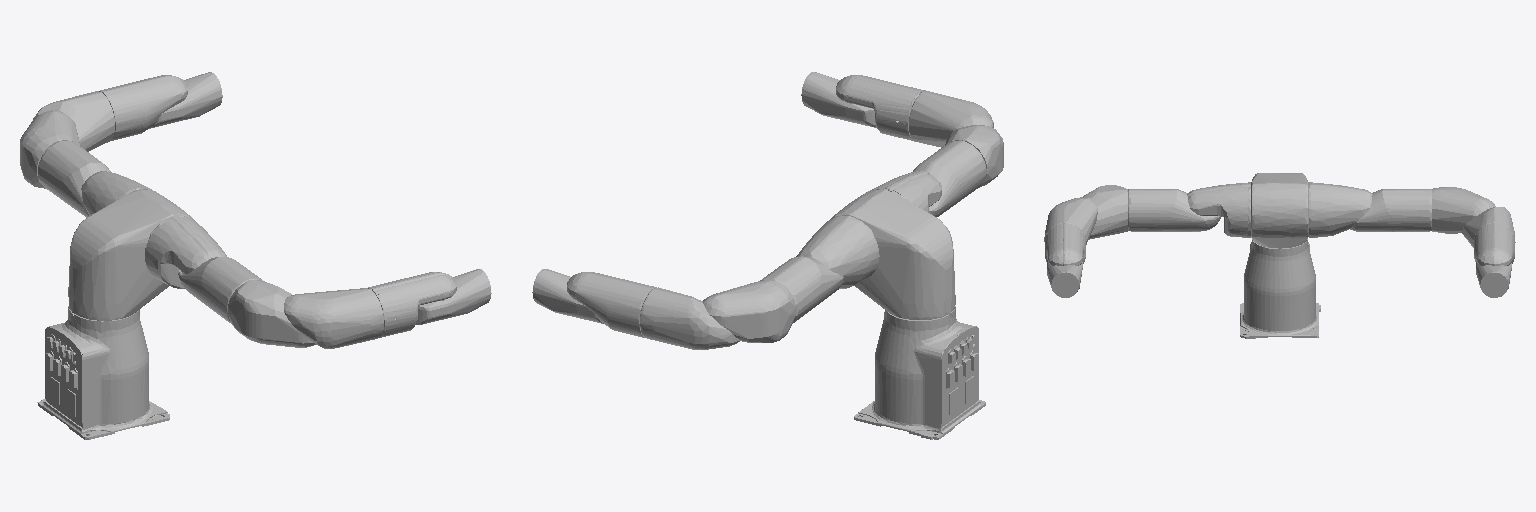
robot.urdf — motoman_bmda3:
<?xml version="1.0" ?>
<!-- =================================================================================== -->
<!-- |    This document was autogenerated by xacro from bmda3.xacro                    | -->
<!-- |    EDITING THIS FILE BY HAND IS NOT RECOMMENDED                                 | -->
<!-- =================================================================================== -->
<robot name="motoman_bmda3" xmlns:xacro="http://ros.org/wiki/xacro">
  <link name="base_link">
    <origin rpy="0 0 0" xyz="0 0 0"/>
  </link>
  <link name="base">
    <visual>
      <origin rpy="0 0 0" xyz="0 0 0"/>
      <geometry>
        <mesh filename="package://motoman_bmda3_support/meshes/bmda3/visual/base.stl"/>
      </geometry>
      <material name="">
        <color rgba="0.75294 0.75294 0.75294 1"/>
      </material>
    </visual>
    <collision>
      <origin rpy="0 0 0" xyz="0 0 0"/>
      <geometry>
        <mesh filename="package://motoman_bmda3_support/meshes/bmda3/collision/base.stl"/>
      </geometry>
    </collision>
  </link>
  <link name="torso_link_b1">
    <visual>
      <origin rpy="0 0 0" xyz="0 0 0"/>
      <geometry>
        <mesh filename="package://motoman_bmda3_support/meshes/bmda3/visual/torso_link.stl"/>
      </geometry>
      <material name="">
        <color rgba="0.75294 0.75294 0.75294 1"/>
      </material>
    </visual>
    <collision>
      <origin rpy="0 0 0" xyz="0 0 0"/>
      <geometry>
        <mesh filename="package://motoman_bmda3_support/meshes/bmda3/collision/torso_link.stl"/>
      </geometry>
    </collision>
  </link>
  <link name="right_link_l">
    <visual>
      <origin rpy="0 0 0" xyz="0 0 0"/>
      <geometry>
        <mesh filename="package://motoman_bmda3_support/meshes/bmda3/visual/right_link_l.stl"/>
      </geometry>
      <material name="">
        <color rgba="0.75294 0.75294 0.75294 1"/>
      </material>
    </visual>
    <collision>
      <origin rpy="0 0 0" xyz="0 0 0"/>
      <geometry>
        <mesh filename="package://motoman_bmda3_support/meshes/bmda3/collision/right_link_l.stl"/>
      </geometry>
    </collision>
  </link>
  <link name="right_link_e">
    <visual>
      <origin rpy="0 0 0" xyz="0 0 0"/>
      <geometry>
        <mesh filename="package://motoman_bmda3_support/meshes/bmda3/visual/right_link_e.stl"/>
      </geometry>
      <material name="">
        <color rgba="0.75294 0.75294 0.75294 1"/>
      </material>
    </visual>
    <collision>
      <origin rpy="0 0 0" xyz="0 0 0"/>
      <geometry>
        <mesh filename="package://motoman_bmda3_support/meshes/bmda3/collision/right_link_e.stl"/>
      </geometry>
    </collision>
  </link>
  <link name="right_link_u">
    <visual>
      <origin rpy="0 0 0" xyz="0 0 0"/>
      <geometry>
        <mesh filename="package://motoman_bmda3_support/meshes/bmda3/visual/right_link_u.stl"/>
      </geometry>
      <material name="">
        <color rgba="0.752941176470588 0.752941176470588 0.752941176470588 1"/>
      </material>
    </visual>
    <collision>
      <origin rpy="0 0 0" xyz="0 0 0"/>
      <geometry>
        <mesh filename="package://motoman_bmda3_support/meshes/bmda3/collision/right_link_u.stl"/>
      </geometry>
    </collision>
  </link>
  <link name="right_link_r">
    <visual>
      <origin rpy="0 0 0" xyz="0 0 0"/>
      <geometry>
        <mesh filename="package://motoman_bmda3_support/meshes/bmda3/visual/right_link_r.stl"/>
      </geometry>
      <material name="">
        <color rgba="0.752941176470588 0.752941176470588 0.752941176470588 1"/>
      </material>
    </visual>
    <collision>
      <origin rpy="0 0 0" xyz="0 0 0"/>
      <geometry>
        <mesh filename="package://motoman_bmda3_support/meshes/bmda3/collision/right_link_r.stl"/>
      </geometry>
    </collision>
  </link>
  <link name="right_link_b">
    <visual>
      <origin rpy="0 0 0" xyz="0 0 0"/>
      <geometry>
        <mesh filename="package://motoman_bmda3_support/meshes/bmda3/visual/right_link_b.stl"/>
      </geometry>
      <material name="">
        <color rgba="0.752941176470588 0.752941176470588 0.752941176470588 1"/>
      </material>
    </visual>
    <collision>
      <origin rpy="0 0 0" xyz="0 0 0"/>
      <geometry>
        <mesh filename="package://motoman_bmda3_support/meshes/bmda3/collision/right_link_b.stl"/>
      </geometry>
    </collision>
  </link>
  <link name="right_link_t">
    <visual>
      <origin rpy="0 0 0" xyz="0 0 0"/>
      <geometry>
        <mesh filename="package://motoman_bmda3_support/meshes/bmda3/visual/right_link_t.stl"/>
      </geometry>
      <material name="">
        <color rgba="0.752941176470588 0.752941176470588 0.752941176470588 1"/>
      </material>
    </visual>
    <collision>
      <origin rpy="0 0 0" xyz="0 0 0"/>
      <geometry>
        <mesh filename="package://motoman_bmda3_support/meshes/bmda3/collision/right_link_t.stl"/>
      </geometry>
    </collision>
  </link>
  <link name="right_tool0"/>
  <link name="torso_link_b2">
    <visual>
      <origin rpy="0 0 0" xyz="0 0 0"/>
      <geometry>
        <mesh filename="package://motoman_bmda3_support/meshes/bmda3/visual/torso_link.stl"/>
      </geometry>
      <material name="">
        <color rgba="0.75294 0.75294 0.75294 1"/>
      </material>
    </visual>
    <collision>
      <origin rpy="0 0 0" xyz="0 0 0"/>
      <geometry>
        <mesh filename="package://motoman_bmda3_support/meshes/bmda3/collision/torso_link.stl"/>
      </geometry>
    </collision>
  </link>
  <link name="left_link_l">
    <visual>
      <origin rpy="0 0 0" xyz="0 0 0"/>
      <geometry>
        <mesh filename="package://motoman_bmda3_support/meshes/bmda3/visual/left_link_l.stl"/>
      </geometry>
      <material name="">
        <color rgba="0.752941176470588 0.752941176470588 0.752941176470588 1"/>
      </material>
    </visual>
    <collision>
      <origin rpy="0 0 0" xyz="0 0 0"/>
      <geometry>
        <mesh filename="package://motoman_bmda3_support/meshes/bmda3/collision/left_link_l.stl"/>
      </geometry>
    </collision>
  </link>
  <link name="left_link_e">
    <visual>
      <origin rpy="0 0 0" xyz="0 0 0"/>
      <geometry>
        <mesh filename="package://motoman_bmda3_support/meshes/bmda3/visual/left_link_e.stl"/>
      </geometry>
      <material name="">
        <color rgba="0.752941176470588 0.752941176470588 0.752941176470588 1"/>
      </material>
    </visual>
    <collision>
      <origin rpy="0 0 0" xyz="0 0 0"/>
      <geometry>
        <mesh filename="package://motoman_bmda3_support/meshes/bmda3/collision/left_link_e.stl"/>
      </geometry>
    </collision>
  </link>
  <link name="left_link_u">
    <visual>
      <origin rpy="0 0 0" xyz="0 0 0"/>
      <geometry>
        <mesh filename="package://motoman_bmda3_support/meshes/bmda3/visual/left_link_u.stl"/>
      </geometry>
      <material name="">
        <color rgba="0.752941176470588 0.752941176470588 0.752941176470588 1"/>
      </material>
    </visual>
    <collision>
      <origin rpy="0 0 0" xyz="0 0 0"/>
      <geometry>
        <mesh filename="package://motoman_bmda3_support/meshes/bmda3/collision/left_link_u.stl"/>
      </geometry>
    </collision>
  </link>
  <link name="left_link_r">
    <visual>
      <origin rpy="0 0 0" xyz="0 0 0"/>
      <geometry>
        <mesh filename="package://motoman_bmda3_support/meshes/bmda3/visual/left_link_r.stl"/>
      </geometry>
      <material name="">
        <color rgba="0.752941176470588 0.752941176470588 0.752941176470588 1"/>
      </material>
    </visual>
    <collision>
      <origin rpy="0 0 0" xyz="0 0 0"/>
      <geometry>
        <mesh filename="package://motoman_bmda3_support/meshes/bmda3/collision/left_link_r.stl"/>
      </geometry>
    </collision>
  </link>
  <link name="left_link_b">
    <visual>
      <origin rpy="0 0 0" xyz="0 0 0"/>
      <geometry>
        <mesh filename="package://motoman_bmda3_support/meshes/bmda3/visual/left_link_b.stl"/>
      </geometry>
      <material name="">
        <color rgba="0.752941176470588 0.752941176470588 0.752941176470588 1"/>
      </material>
    </visual>
    <collision>
      <origin rpy="0 0 0" xyz="0 0 0"/>
      <geometry>
        <mesh filename="package://motoman_bmda3_support/meshes/bmda3/collision/left_link_b.stl"/>
      </geometry>
    </collision>
  </link>
  <link name="left_link_t">
    <visual>
      <origin rpy="0 0 0" xyz="0 0 0"/>
      <geometry>
        <mesh filename="package://motoman_bmda3_support/meshes/bmda3/visual/left_link_t.stl"/>
      </geometry>
      <material name="">
        <color rgba="0.752941176470588 0.752941176470588 0.752941176470588 1"/>
      </material>
    </visual>
    <collision>
      <origin rpy="0 0 0" xyz="0 0 0"/>
      <geometry>
        <mesh filename="package://motoman_bmda3_support/meshes/bmda3/collision/left_link_t.stl"/>
      </geometry>
    </collision>
  </link>
  <link name="left_tool0"/>
  <joint name="base_link-base" type="fixed">
    <origin rpy="0 0 0" xyz="0 0 0"/>
    <parent link="base_link"/>
    <child link="base"/>
  </joint>
  <joint name="torso_joint_b1" type="revolute">
    <parent link="base"/>
    <child link="torso_link_b1"/>
    <origin rpy="0 0 0" xyz="0 0 0.3305"/>
    <axis xyz="0 0 1"/>
    <limit effort="0" lower="-3.1415" upper="3.1415" velocity="2.27"/>
  </joint>
  <joint name="right_joint_s" type="revolute">
    <parent link="torso_link_b1"/>
    <child link="right_link_l"/>
    <origin rpy="0 0 0" xyz="0.15002 -0.099 0.12951"/>
    <axis xyz="0 1 0"/>
    <limit effort="0" lower="-1.570" upper="3.1415" velocity="2.97"/>
  </joint>
  <joint name="right_joint_l" type="revolute">
    <parent link="right_link_l"/>
    <child link="right_link_e"/>
    <origin rpy="0 0 0" xyz="0 -0.151 0"/>
    <axis xyz="0 0 1"/>
    <limit effort="0" lower="-1.745" upper="1.745" velocity="2.62"/>
  </joint>
  <joint name="right_joint_e" type="revolute">
    <parent link="right_link_e"/>
    <child link="right_link_u"/>
    <origin rpy="0 0 0" xyz="0 -0.23549999999989 0"/>
    <axis xyz="0 1 0"/>
    <limit effort="0" lower="-2.966" upper="2.966" velocity="2.97"/>
  </joint>
  <joint name="right_joint_u" type="revolute">
    <parent link="right_link_u"/>
    <child link="right_link_r"/>
    <origin rpy="0 0 0" xyz="0.065002 -0.1445 0"/>
    <axis xyz="0 0 -1"/>
    <limit effort="0" lower="-1.396" upper="0.7504" velocity="2.97"/>
  </joint>
  <joint name="right_joint_r" type="revolute">
    <parent link="right_link_r"/>
    <child link="right_link_b"/>
    <origin rpy="0 0 0" xyz="0.35997 -0.05 0"/>
    <axis xyz="1 0 0"/>
    <limit effort="0" lower="-3.1415" upper="3.1415" velocity="3.49"/>
  </joint>
  <joint name="right_joint_b" type="revolute">
    <parent link="right_link_b"/>
    <child link="right_link_t"/>
    <origin rpy="0 0 0" xyz="0 0 0"/>
    <axis xyz="0 0 -1"/>
    <limit effort="0" lower="-1.9198" upper="1.9198" velocity="3.49"/>
  </joint>
  <joint name="right_joint_t" type="revolute">
    <parent link="right_link_t"/>
    <child link="right_tool0"/>
    <origin rpy="0 0 0" xyz="0.138 0 0"/>
    <axis xyz="1 0 0"/>
    <limit effort="0" lower="-4.712" upper="4.712" velocity="6.11"/>
  </joint>
  <joint name="torso_joint_b2" type="revolute">
    <parent link="base"/>
    <child link="torso_link_b2"/>
    <origin rpy="0 0 0" xyz="0 0 0.3305"/>
    <axis xyz="0 0 1"/>
    <limit effort="0" lower="-3.1415" upper="3.1415" velocity="2.27"/>
  </joint>
  <joint name="left_joint_s" type="revolute">
    <parent link="torso_link_b1"/>
    <child link="left_link_l"/>
    <origin rpy="0 0 0" xyz="0.15003 0.099 0.1295"/>
    <axis xyz="0 1 0"/>
    <limit effort="0" lower="-1.570" upper="3.1415" velocity="2.97"/>
  </joint>
  <joint name="left_joint_l" type="revolute">
    <parent link="left_link_l"/>
    <child link="left_link_e"/>
    <origin rpy="0 0 0" xyz="0 0.151 0"/>
    <axis xyz="0 0 -1"/>
    <limit effort="0" lower="-1.745" upper="1.745" velocity="2.62"/>
  </joint>
  <joint name="left_joint_e" type="revolute">
    <parent link="left_link_e"/>
    <child link="left_link_u"/>
    <origin rpy="0 0 0" xyz="0 0.23549999999989 0"/>
    <axis xyz="0 1 0"/>
    <limit effort="0" lower="-2.966" upper="2.966" velocity="2.97"/>
  </joint>
  <joint name="left_joint_u" type="revolute">
    <parent link="left_link_u"/>
    <child link="left_link_r"/>
    <origin rpy="0 0 0" xyz="0.065 0.1445 0"/>
    <axis xyz="0 0 1"/>
    <limit effort="0" lower="-1.396" upper="0.7504" velocity="2.97"/>
  </joint>
  <joint name="left_joint_r" type="revolute">
    <parent link="left_link_r"/>
    <child link="left_link_b"/>
    <origin rpy="0 0 0" xyz="0.35997 0.05 0"/>
    <axis xyz="-1 0 0"/>
    <limit effort="0" lower="-3.1415" upper="3.1415" velocity="3.49"/>
  </joint>
  <joint name="left_joint_b" type="revolute">
    <parent link="left_link_b"/>
    <child link="left_link_t"/>
    <origin rpy="0 0 0" xyz="0 0 0"/>
    <axis xyz="0 0 1"/>
    <limit effort="0" lower="-1.9198" upper="1.9198" velocity="3.49"/>
  </joint>
  <joint name="left_joint_t" type="revolute">
    <parent link="left_link_t"/>
    <child link="left_tool0"/>
    <origin rpy="0 0 0" xyz="0.138 0 0"/>
    <axis xyz="-1 0 0"/>
    <limit effort="0" lower="-4.712" upper="4.712" velocity="6.11"/>
  </joint>
</robot>

--- Render facts (derived) ---
3 views of the same robot in one strip: view 1: azimuth 30°, elevation 25°; view 2: azimuth 150°, elevation 25°; view 3: azimuth 270°, elevation 25° (orthographic).
Robot: motoman_bmda3 — 18 links, 17 joints (16 revolute, 1 fixed); root link base_link; default pose: every joint at zero.
Links seen in each view (by area): view 1: base, torso_link_b1, right_link_r, right_link_u, right_link_l, left_link_b, right_link_b, left_link_e, right_link_e, left_link_r, left_link_u, right_link_t (+2 smaller); view 2: base, torso_link_b1, left_link_u, left_link_r, left_link_l, left_link_b, right_link_b, right_link_r, right_link_e, left_link_e, right_link_t, left_link_t (+2 smaller); view 3: base, torso_link_b1, right_link_e, left_link_e, left_link_l, right_link_l, left_link_u, right_link_u, left_link_b, right_link_b, right_link_r, right_link_t (+2 smaller).
Boxes of the visible links, x1,y1,x2,y2 form: base: (37,306,169,439); torso_link_b1: (68,189,193,320); right_link_r: (284,288,383,348); right_link_u: (228,280,315,347); right_link_l: (145,216,226,288); left_link_b: (99,75,187,141); right_link_b: (368,272,456,337); left_link_e: (38,141,110,217); right_link_e: (178,257,262,322); left_link_r: (33,91,114,151); left_link_u: (20,110,80,188); right_link_t: (416,269,491,324); base: (854,306,985,439); torso_link_b1: (831,189,955,319); left_link_u: (703,280,795,342); left_link_r: (640,287,739,349); left_link_l: (796,215,879,288); left_link_b: (567,272,656,337); right_link_b: (836,75,925,141); right_link_r: (909,91,993,147); right_link_e: (913,140,986,216); left_link_e: (760,256,843,322); right_link_t: (801,72,876,127); left_link_t: (532,269,603,323); base: (1240,239,1320,338); torso_link_b1: (1251,173,1308,248); right_link_e: (1128,189,1221,231); left_link_e: (1350,189,1431,231); left_link_l: (1309,182,1372,237); right_link_l: (1187,182,1250,237); left_link_u: (1432,187,1495,233); right_link_u: (1083,185,1127,239); left_link_b: (1474,223,1514,265); right_link_b: (1045,223,1085,265); right_link_r: (1044,197,1097,244); right_link_t: (1047,260,1082,297).
Bounding box of the posed robot: 0.8433 × 1.49 × 0.5547 m (x, y, z).
Meshes: 14 distinct files referenced, 15 mesh visuals loaded (14 binary STL).
